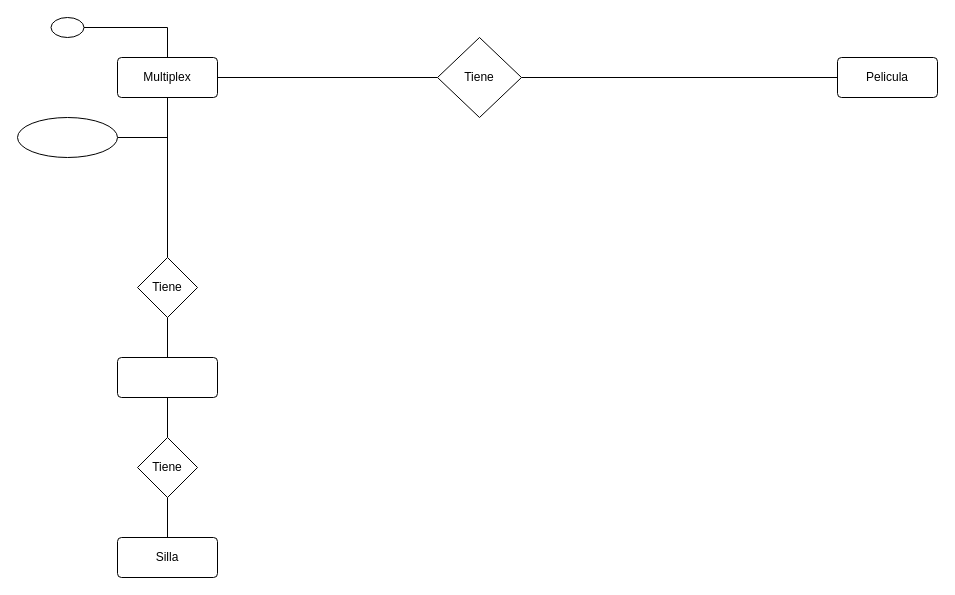
This 955x595 diagram has some shape labels left out. Here are the shapes that lost their labels. From the top down, the centre of each, then its label:
the point at 67,27: id
the point at 67,137: Name
the point at 167,377: Sala
